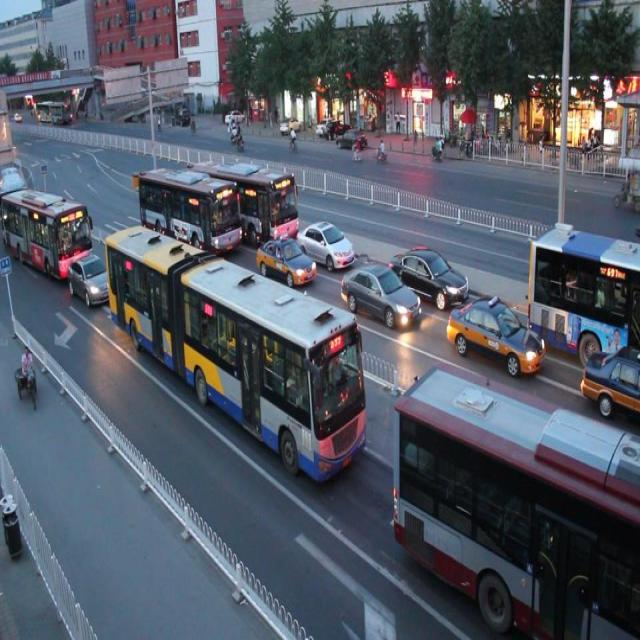car: (446, 294, 544, 382), (337, 258, 416, 331), (390, 243, 468, 309), (578, 341, 640, 416), (253, 230, 314, 289), (294, 214, 352, 273), (67, 250, 116, 308)
van: (102, 218, 366, 482), (394, 365, 640, 640), (527, 224, 640, 358), (136, 160, 240, 262), (191, 153, 298, 248), (1, 182, 90, 272)
